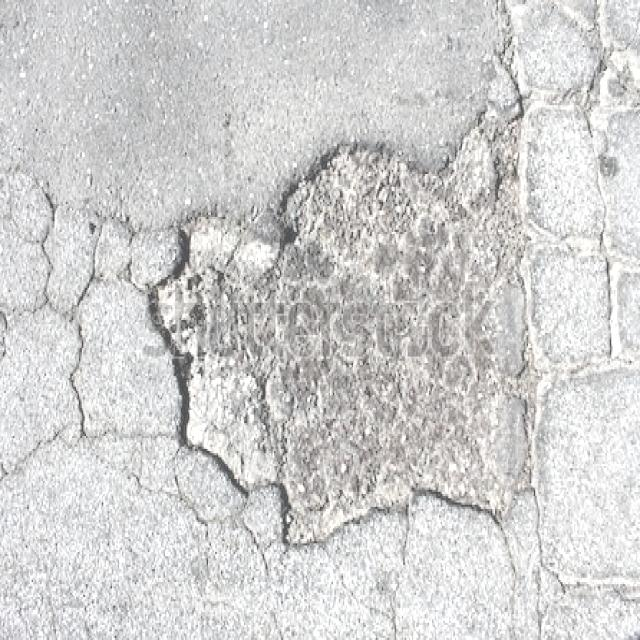Pothole: (116, 0, 561, 640)
